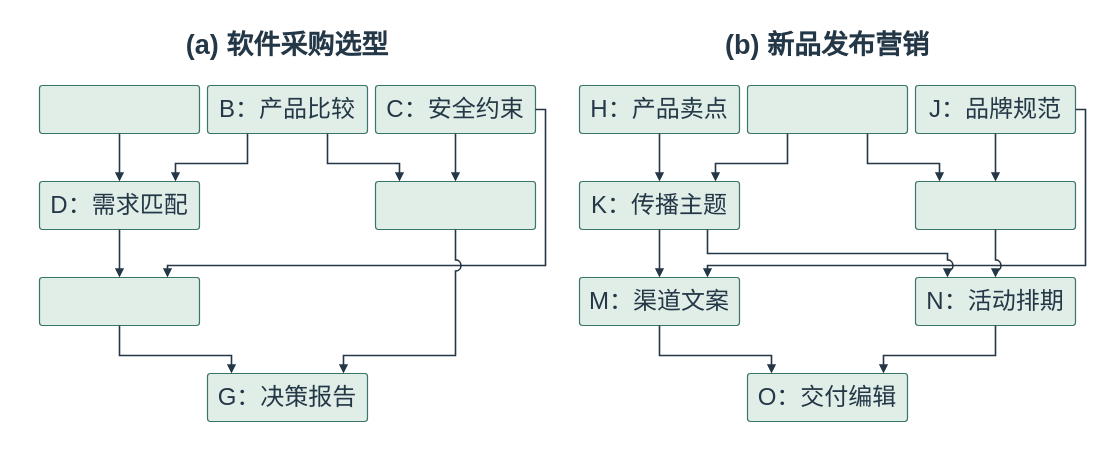
The diagram is 1114 pixels wide and 460 high, and some of its shapes have lost their labels. Each missing label, with the centre of its shape:
"A：需求分析" goes at point 119,109.
"E：风险审查" goes at point 455,205.
"F：选型草案" goes at point 119,301.
"I：客群分析" goes at point 827,109.
"L：渠道策略" goes at point 995,205.
